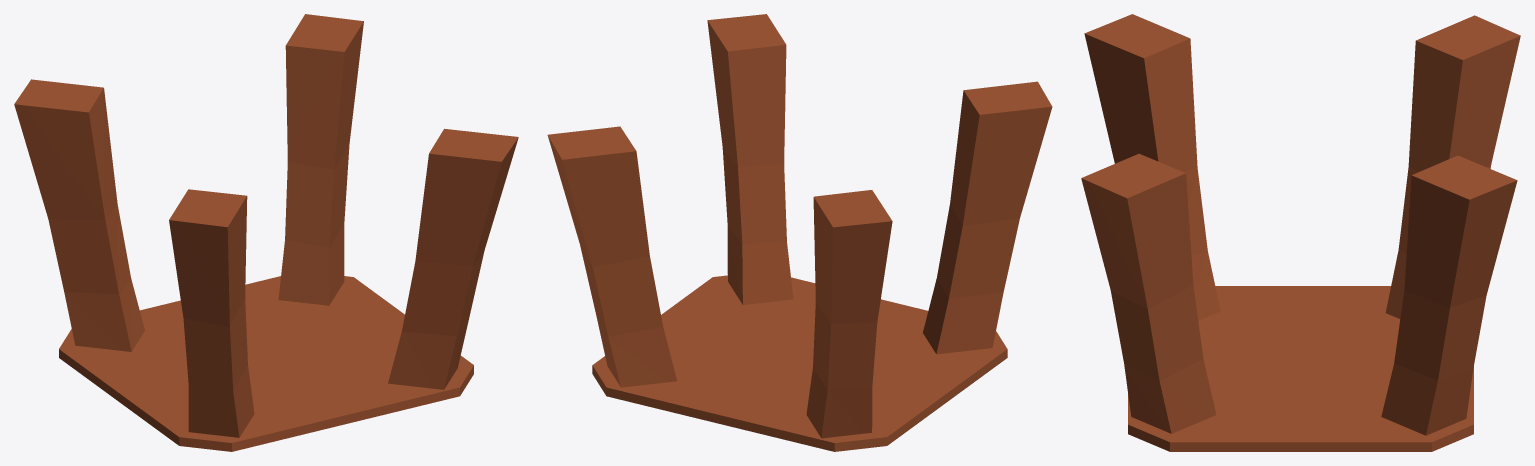
The model's file is Prop_Building_Savage_Tribal_Timber_Tower_Top_02.FBX.
3 views of the same model, side by side, from view 1: azimuth 30°, elevation 25°; view 2: azimuth 150°, elevation 25°; view 3: azimuth 270°, elevation 25° (orthographic). The views are drawn at different scales.
Visible parts, largest first — view 1: Prop_Building_Savage_Tribal_Timber_Tower_Top_02; view 2: Prop_Building_Savage_Tribal_Timber_Tower_Top_02; view 3: Prop_Building_Savage_Tribal_Timber_Tower_Top_02.
Boxes of the visible parts, bbox=[...] form: Prop_Building_Savage_Tribal_Timber_Tower_Top_02: bbox=[14, 14, 518, 451]; Prop_Building_Savage_Tribal_Timber_Tower_Top_02: bbox=[547, 14, 1052, 451]; Prop_Building_Savage_Tribal_Timber_Tower_Top_02: bbox=[1081, 14, 1520, 451].
Size of the model in its own units: 4888 by 3273 by 4888.
